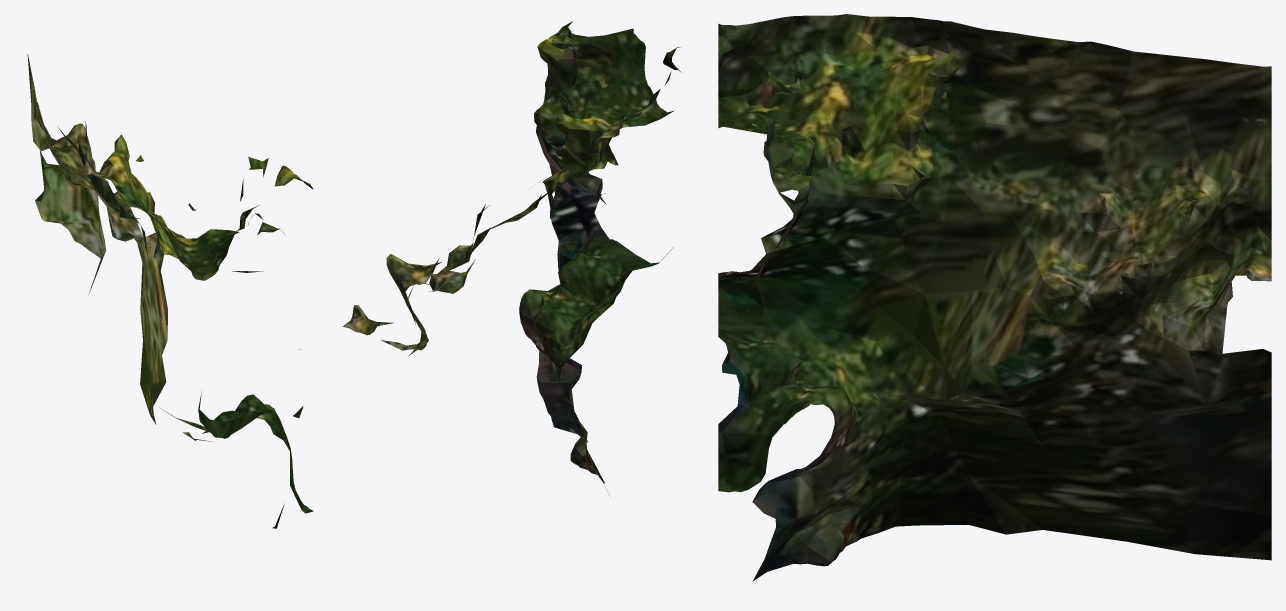
3 views of the same model, side by side, from view 1: azimuth 30°, elevation 25°; view 2: azimuth 150°, elevation 25°; view 3: azimuth 270°, elevation 25° (orthographic). The views are drawn at different scales.
Size of the model in its own units: 1.19 by 3.35 by 3.35.
Materials: 3 (3 with a texture image).
